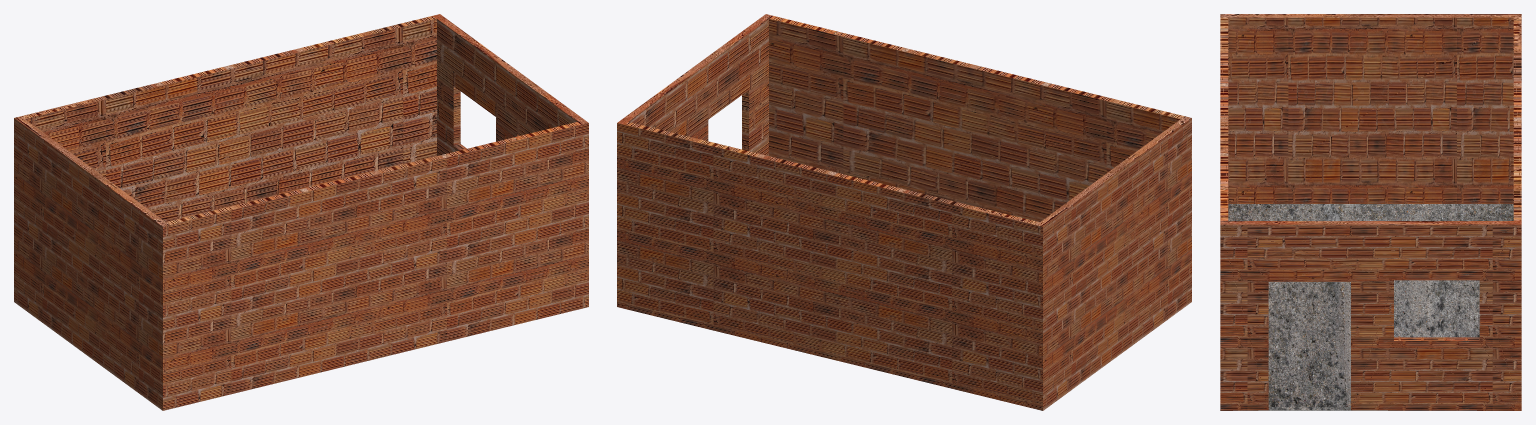
The model's file is Casaemobra.glb.
3 renders of one model, left to right at view 1: azimuth 30°, elevation 25°; view 2: azimuth 150°, elevation 25°; view 3: azimuth 270°, elevation 25°, orthographic.
Parts seen in each view (by area): view 1: Plano; view 2: Plano; view 3: Plano.
Part boxes in pixels (bbox=[...]): Plano: bbox=[14, 14, 588, 410]; Plano: bbox=[617, 14, 1191, 410]; Plano: bbox=[1220, 14, 1521, 410].
Size of the model in its own units: 9.91 by 4.09 by 6.
Materials: 3 (2 with a texture image).
